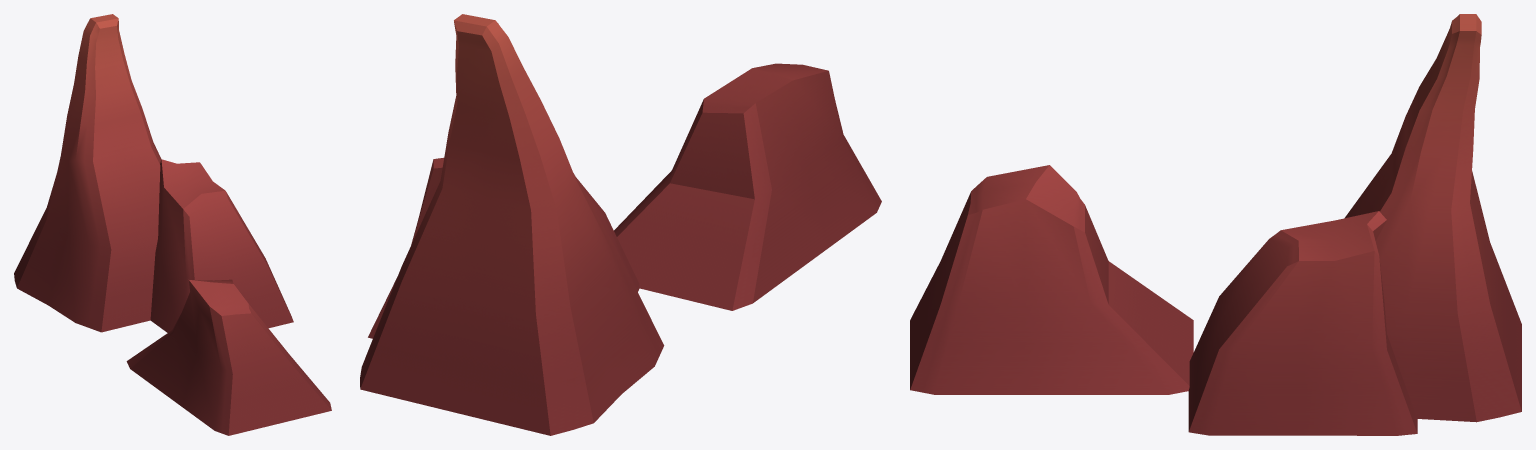
File: Rocks_V01.fbx
3 renders of one model, left to right at view 1: azimuth 30°, elevation 25°; view 2: azimuth 150°, elevation 25°; view 3: azimuth 270°, elevation 25°, orthographic. The views are drawn at different scales.
Visible parts, largest first — view 1: SM_Rock_V01_C01_01; view 2: SM_Rock_V01_C01_01; view 3: SM_Rock_V01_C01_01.
Boxes of the visible parts, x1,y1,x2,y2 form: SM_Rock_V01_C01_01: (14,14,331,435); SM_Rock_V01_C01_01: (360,14,881,435); SM_Rock_V01_C01_01: (910,14,1521,435).
Size of the model in its own units: 178 by 241 by 381.
